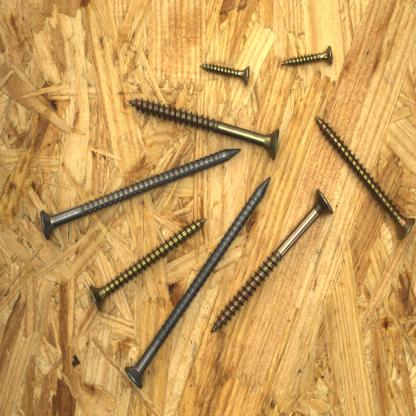screw: (124, 175, 273, 391), (38, 146, 245, 242), (207, 184, 336, 336), (313, 112, 416, 244), (86, 216, 210, 314), (127, 95, 284, 162), (198, 60, 254, 88), (278, 44, 337, 69)
